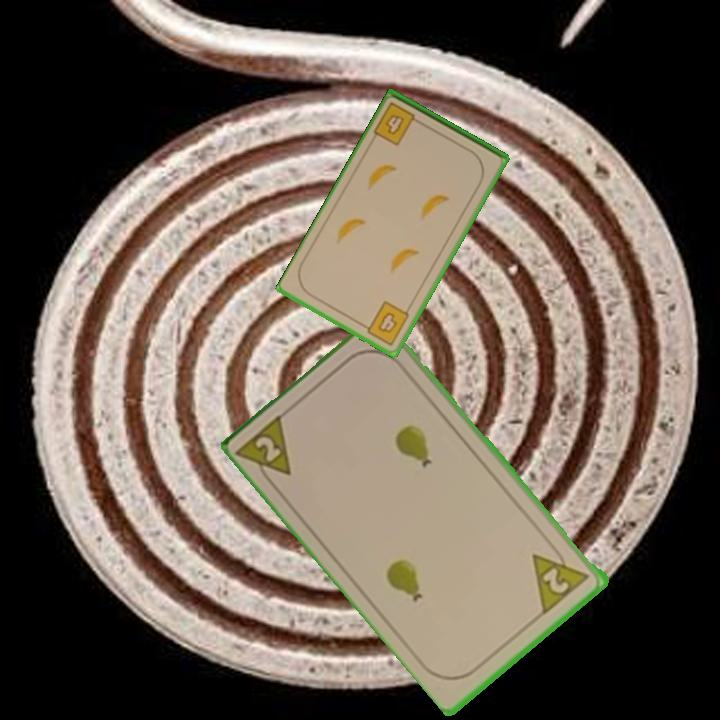2p: (234, 409, 296, 492), (529, 539, 593, 616)
4b: (358, 297, 412, 349), (370, 98, 425, 149)
